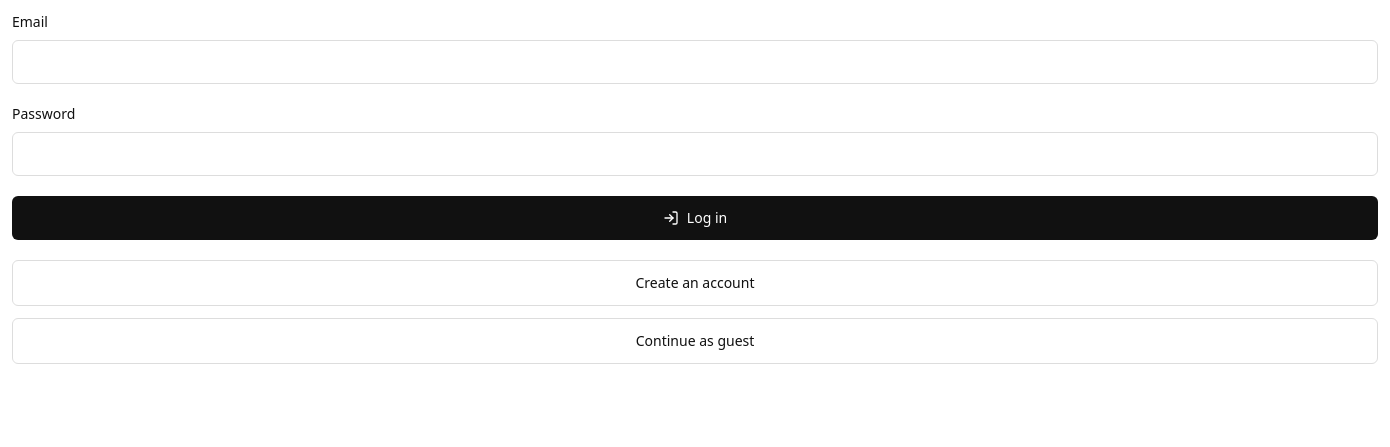
LoginForm › shows the generic error and clears the password on failure
The image size is (1390, 447).
Type "alice@example.com" into the field labelled "Email" at point(695, 62), box [12,40,1378,84]
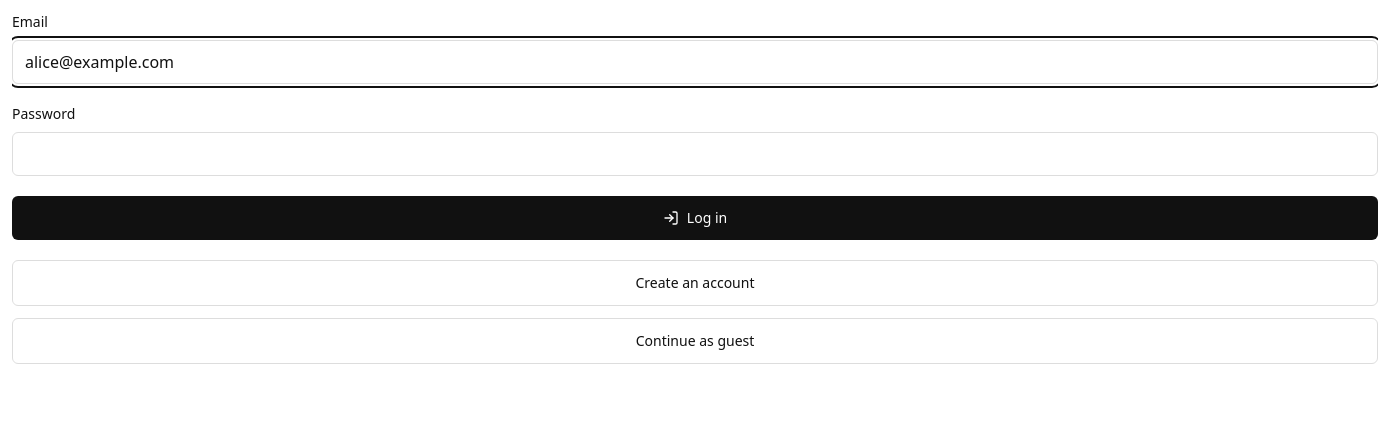
Type "wrong horse" into the password field labelled "Password" at point(695, 154), box [12,132,1378,176]
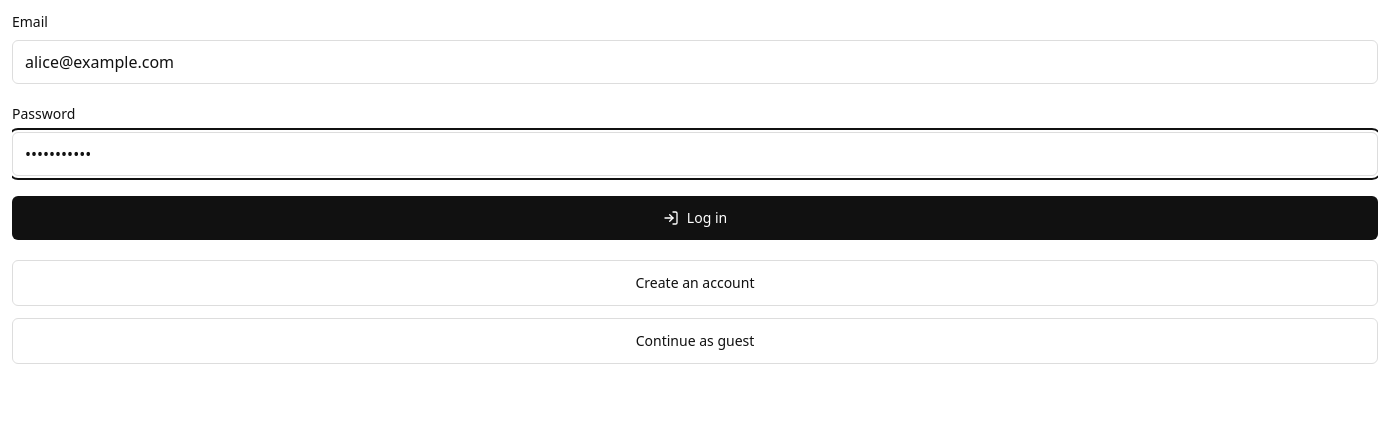
Click the button "Log in" at point(695, 218), box [12,196,1378,240]
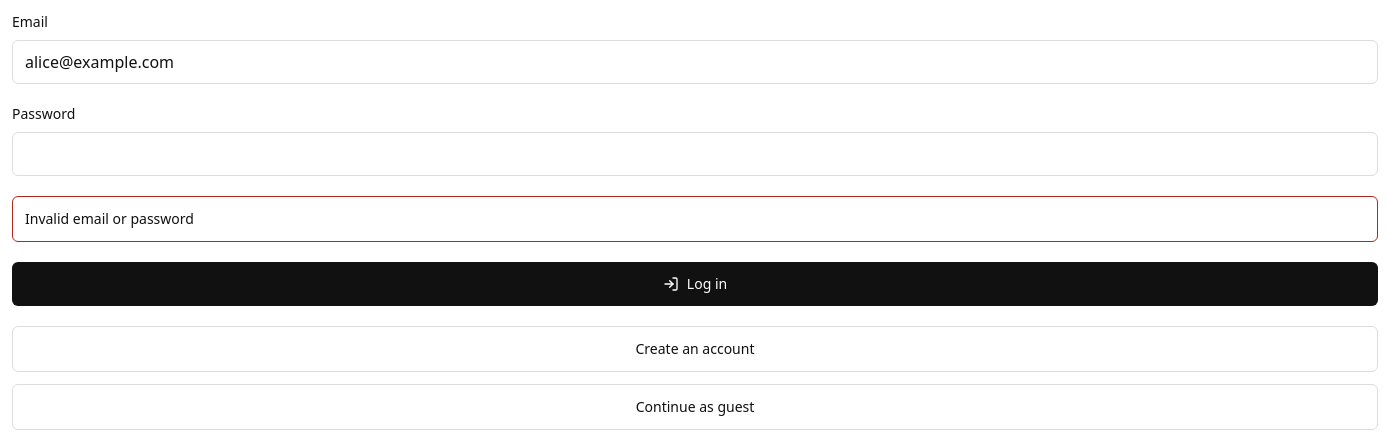
Now the message reads "Invalid email or password", box [25,209,194,228]
Now the password field labelled "Password" is empty, box [12,132,1378,176]
